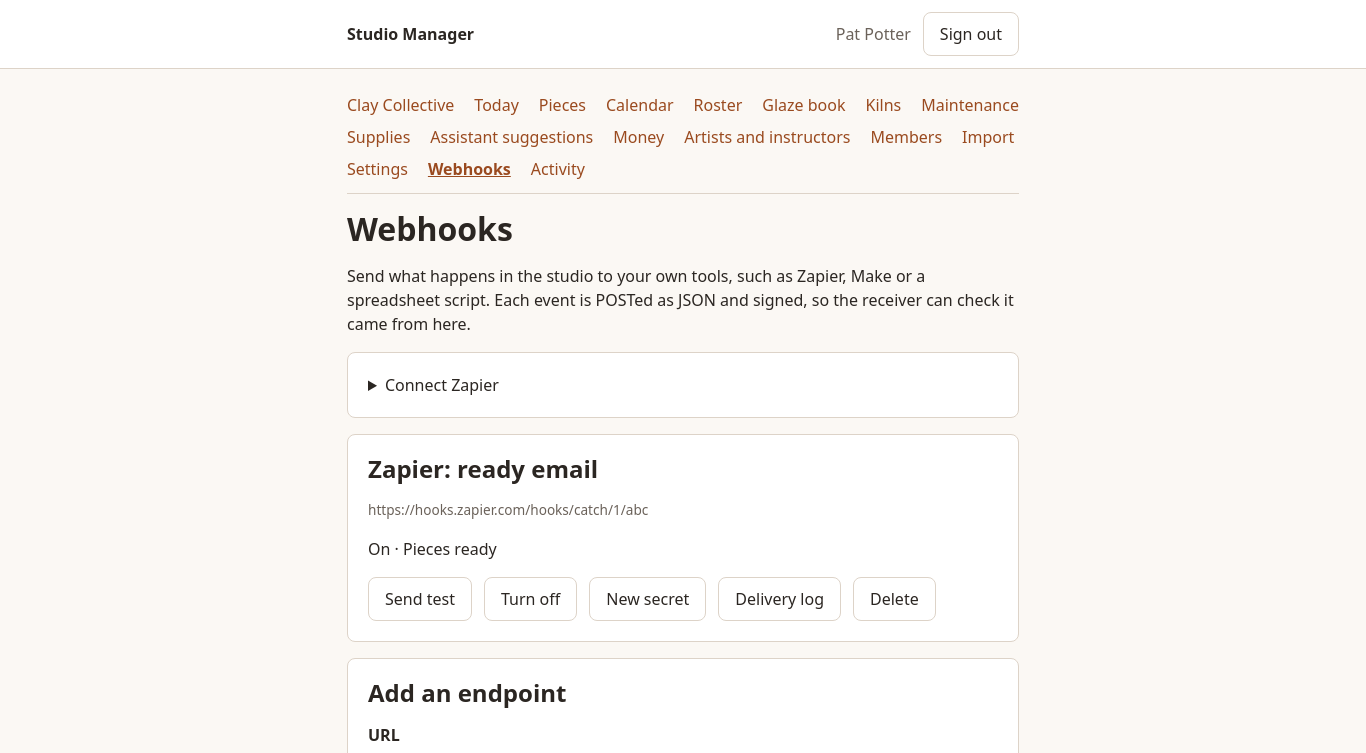
Test case: webhooks › sends a test and says how it went
The image size is (1366, 753).
Click the button "Send test" at (420, 599), box [368,577,472,621]
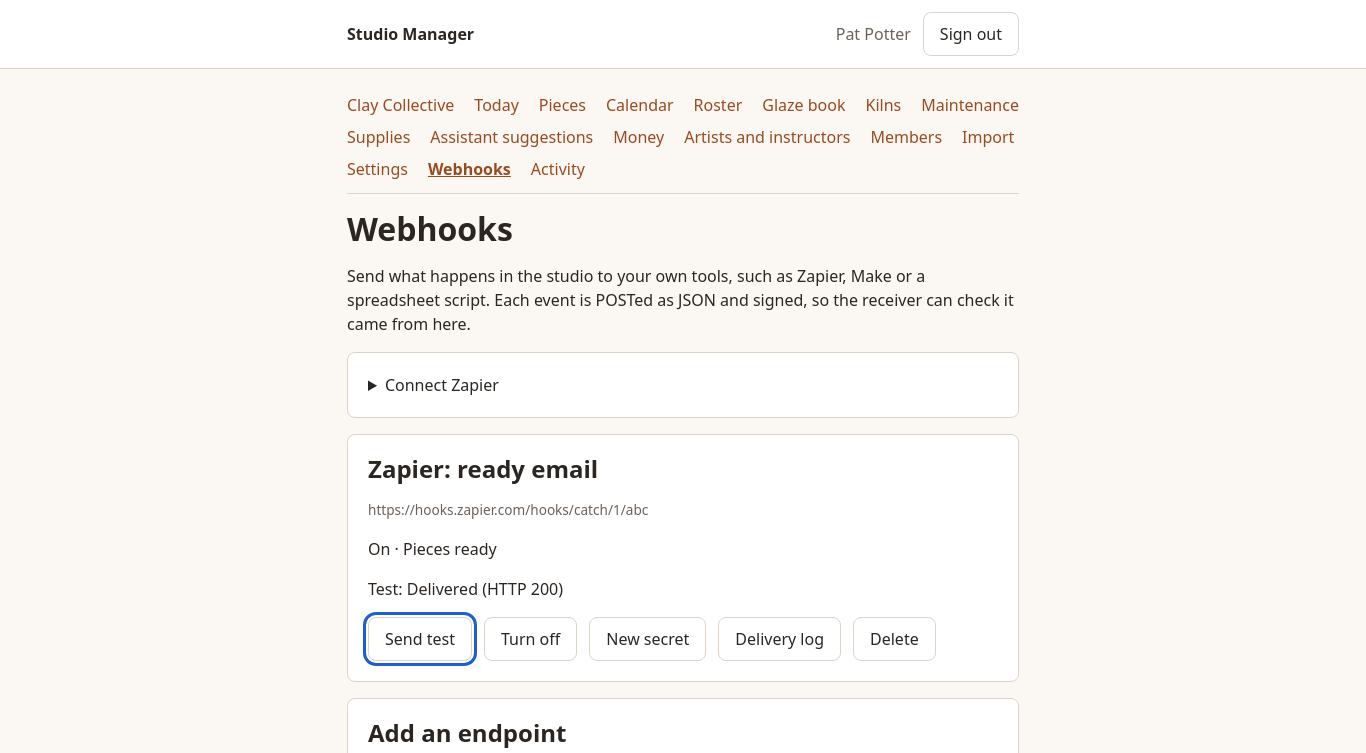
Expected: the text "Test: Delivered (HTTP 200)" is shown, [368,578,563,600]
